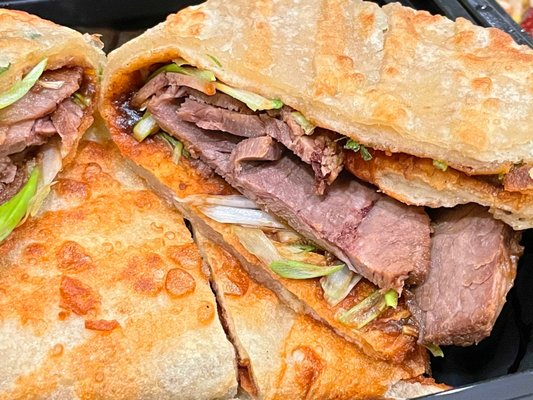soup: (98, 1, 533, 399), (0, 7, 107, 251)
